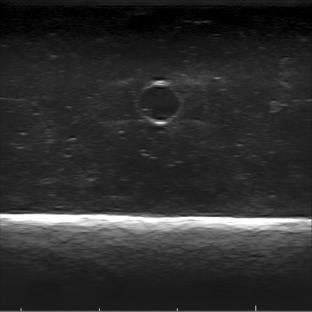vessel: (135, 80, 182, 125)
